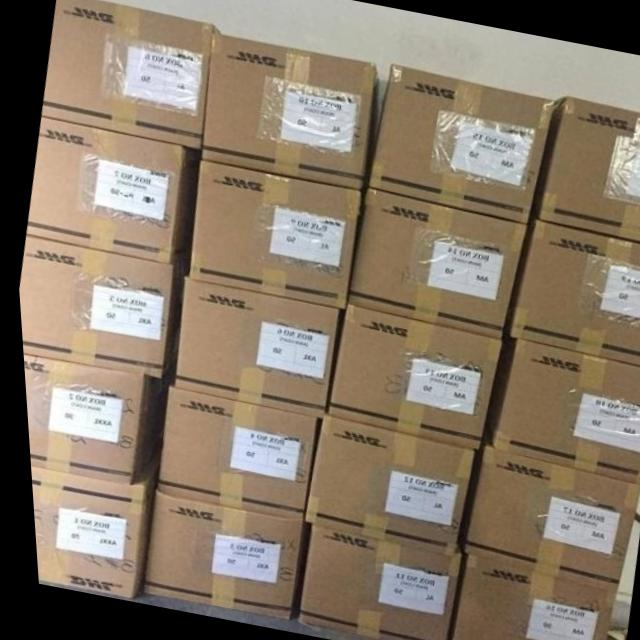box: (366, 64, 552, 224), (449, 433, 634, 591), (200, 33, 378, 191), (344, 187, 524, 339), (41, 0, 220, 150), (185, 161, 364, 308), (478, 326, 640, 485), (323, 303, 497, 450), (24, 118, 199, 264), (298, 415, 471, 556), (169, 278, 342, 419), (16, 236, 186, 378), (150, 386, 317, 521), (500, 212, 640, 367), (135, 492, 304, 619), (19, 355, 171, 486), (290, 524, 453, 640), (24, 467, 152, 599), (527, 97, 640, 242), (438, 552, 608, 640)
